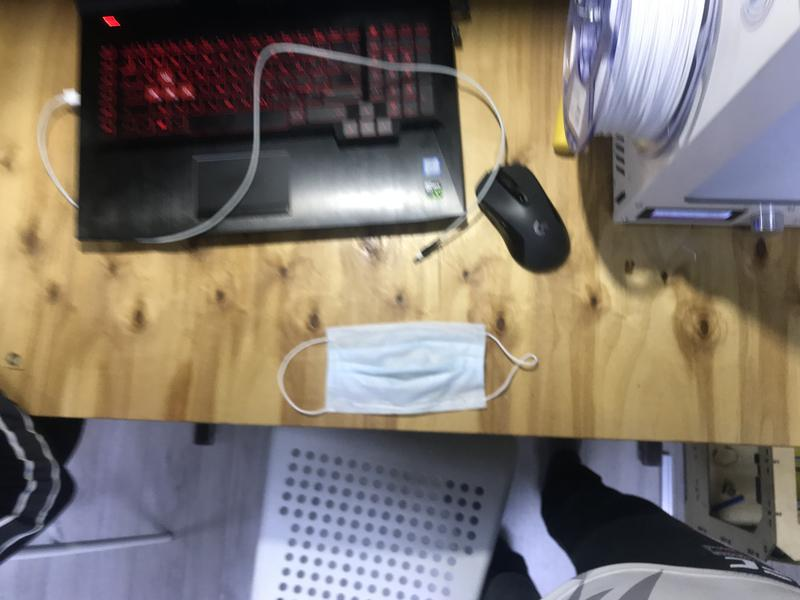medical_mask: (277, 323, 539, 416)
